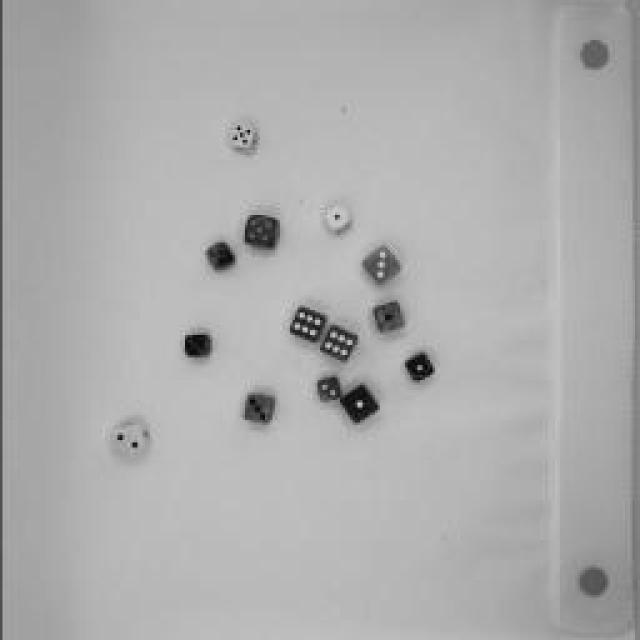dice_1: (334, 376, 388, 436), (366, 299, 416, 341), (318, 198, 358, 238), (402, 349, 436, 391)
dice_2: (104, 415, 156, 465), (312, 376, 342, 406)
dice_3: (235, 379, 280, 429), (358, 241, 404, 289), (180, 328, 212, 364), (202, 240, 238, 272)
dice_5: (241, 210, 284, 258), (228, 119, 262, 159)
dice_6: (316, 319, 364, 366), (284, 303, 326, 345)
